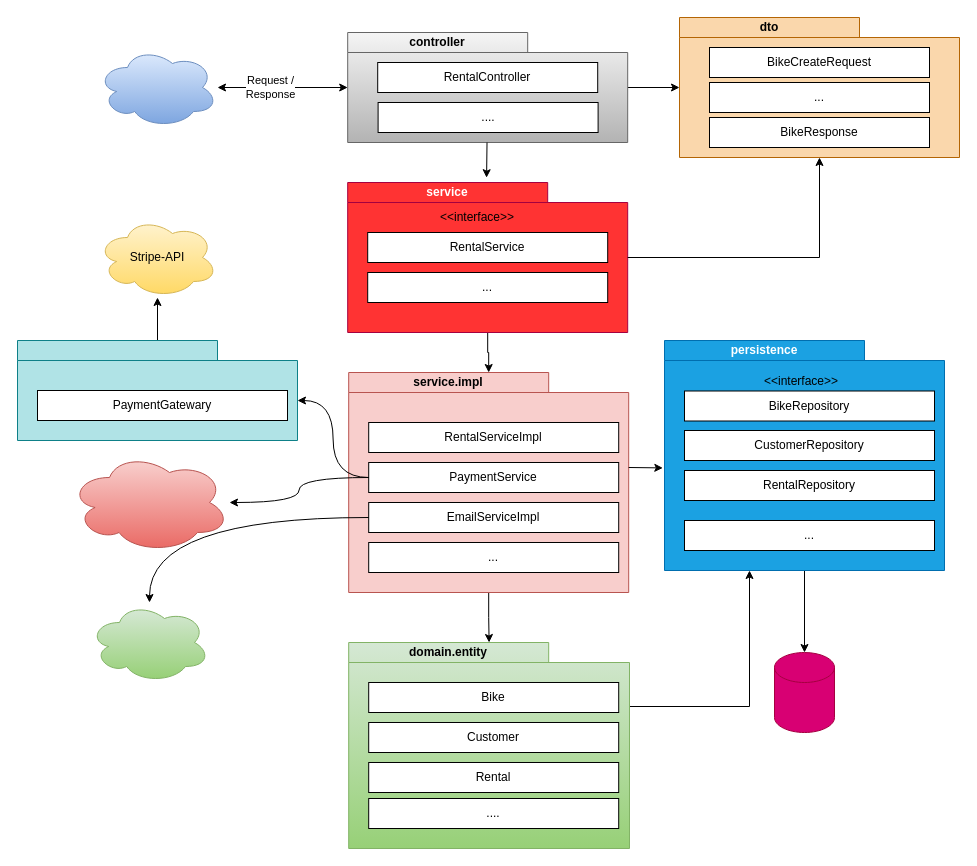
This 977x866 diagram has some shape labels left out. Here are the shapes that lost their labels. From the top down, the centre of each, then its label:
[157,87]: HTTP
[157,390]: Payment
[149,502]: ExchangeRate-API
[149,642]: MailHog
[804,692]: Database
